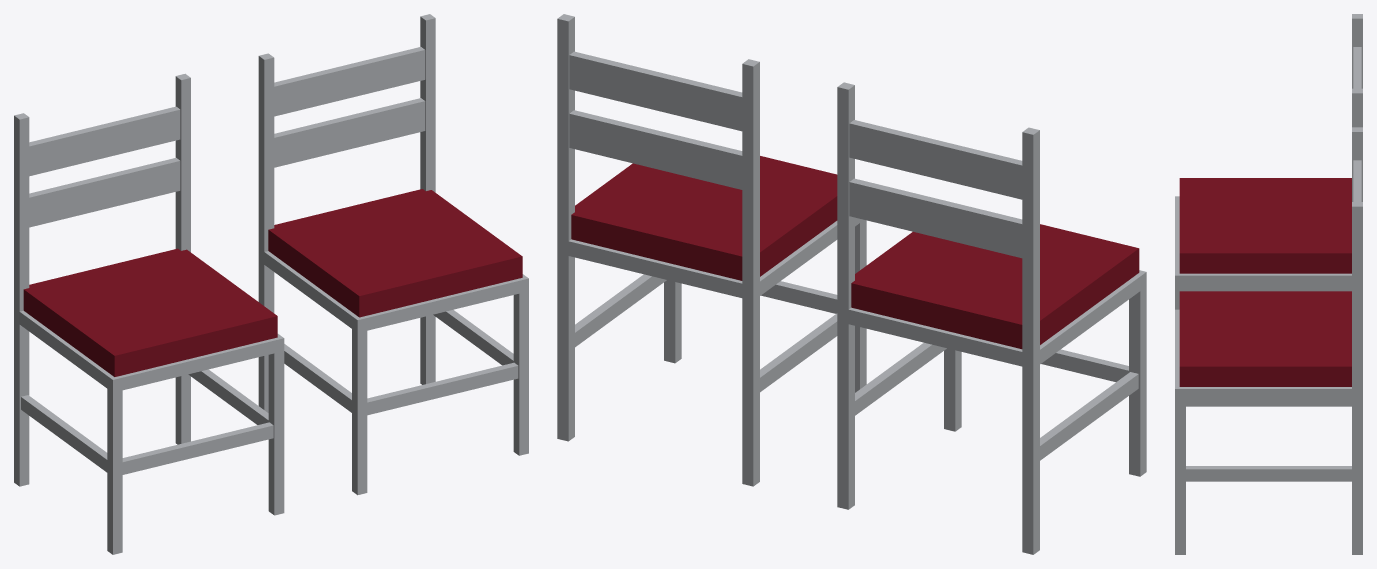
Rendered from bancos-pedestal.glb.
The picture shows the model from 3 angles, left to right: view 1: azimuth 30°, elevation 25°; view 2: azimuth 150°, elevation 25°; view 3: azimuth 270°, elevation 25°; orthographic projection. The views are drawn at different scales.
Parts seen in each view (by area): view 1: bancos-pedestal; view 2: bancos-pedestal; view 3: bancos-pedestal.
Boxes of the visible parts, <box> form: bancos-pedestal: <box>14,14,528,554</box>; bancos-pedestal: <box>557,14,1146,554</box>; bancos-pedestal: <box>1175,14,1362,554</box>.
Bounding box in the file's own units: 1.02 × 0.86 × 0.42.
